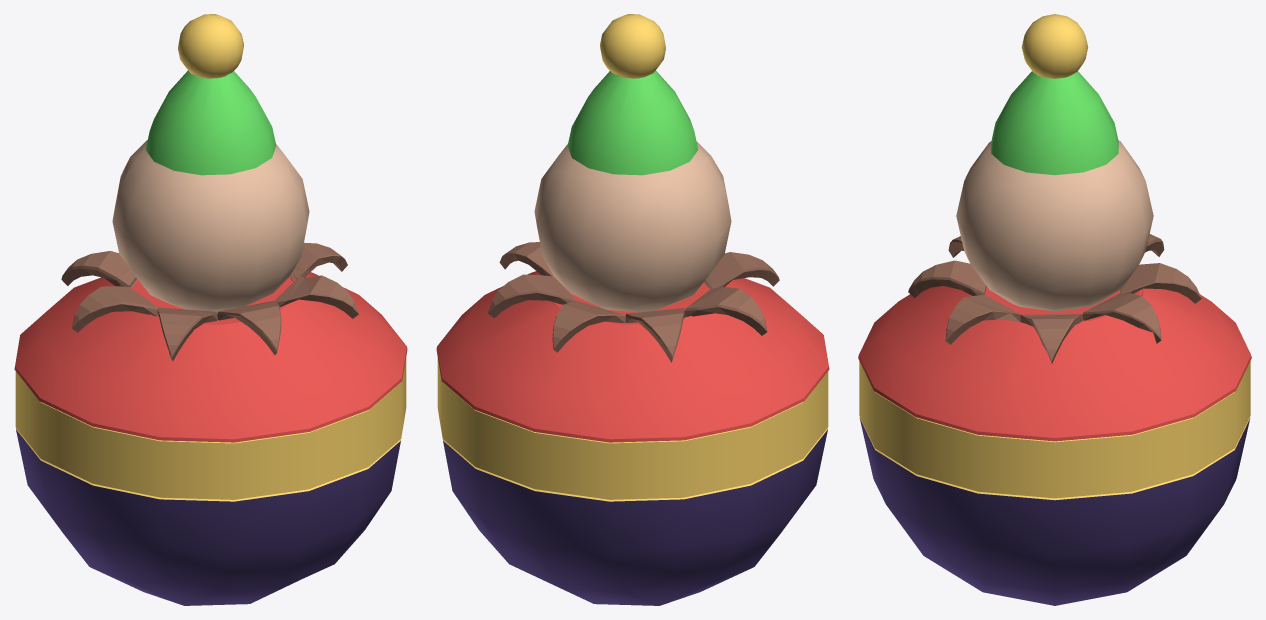
File: 마트료시카.fbx
3 views of the same model, side by side, from view 1: azimuth 30°, elevation 25°; view 2: azimuth 150°, elevation 25°; view 3: azimuth 270°, elevation 25° (orthographic).
Visible parts, largest first — view 1: We, Are; view 2: We, Are; view 3: We, Are.
Boxes of the visible parts, box(x1,y1,x2,y2) form: We: box(14, 14, 407, 442); Are: box(15, 358, 406, 605); We: box(436, 14, 829, 442); Are: box(437, 358, 828, 605); We: box(858, 14, 1251, 441); Are: box(859, 361, 1250, 605).
Size of the model in its own units: 35.02 by 56 by 35.02.
